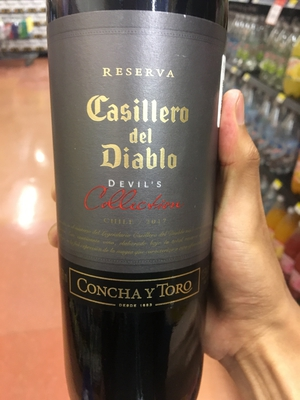casillero del diablo devils collection rojo: (43, 3, 225, 400)
